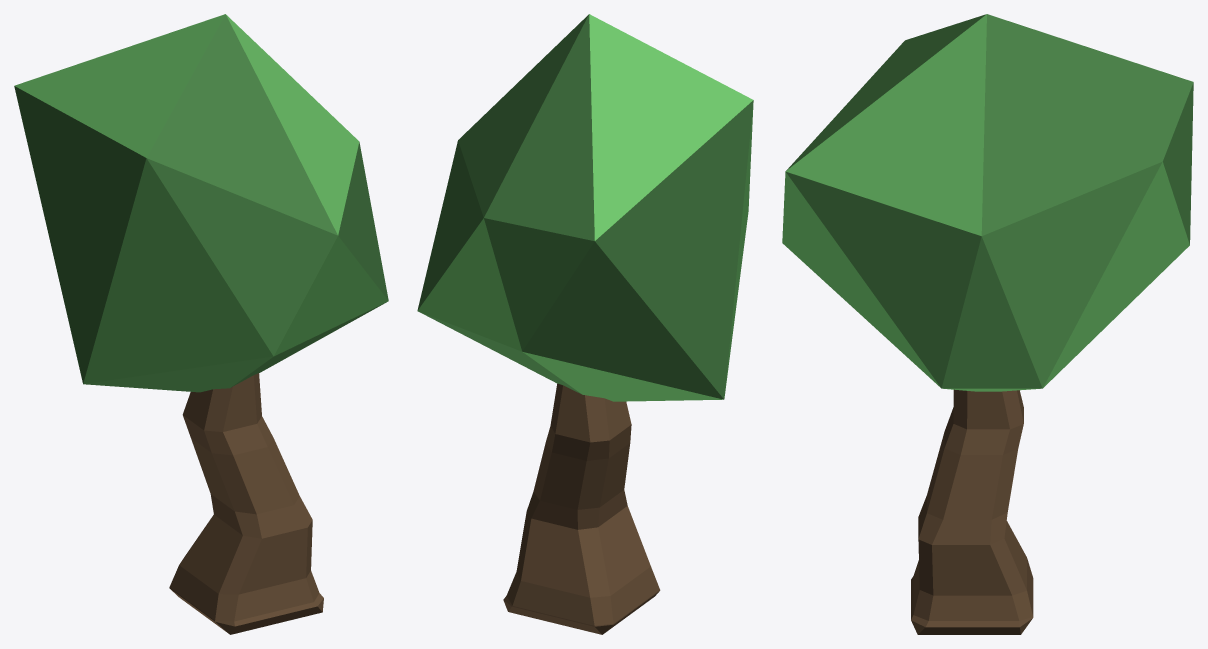
The model's file is Tree_1_Green.fbx.
The picture shows the model from 3 angles, left to right: view 1: azimuth 30°, elevation 25°; view 2: azimuth 150°, elevation 25°; view 3: azimuth 270°, elevation 25°; orthographic projection. The views are drawn at different scales.
Parts seen in each view (by area): view 1: Tree_1_Green_Part_2, Tree_1_Green_Part_3, Tree_1_Green_Part_1; view 2: Tree_1_Green_Part_2, Tree_1_Green_Part_3, Tree_1_Green_Part_1; view 3: Tree_1_Green_Part_2, Tree_1_Green_Part_3, Tree_1_Green_Part_1.
Boxes of the visible parts, bbox=[...] form: Tree_1_Green_Part_2: bbox=[14, 14, 388, 392]; Tree_1_Green_Part_3: bbox=[14, 14, 388, 384]; Tree_1_Green_Part_1: bbox=[169, 373, 323, 634]; Tree_1_Green_Part_2: bbox=[417, 14, 753, 399]; Tree_1_Green_Part_3: bbox=[417, 14, 753, 401]; Tree_1_Green_Part_1: bbox=[503, 383, 660, 634]; Tree_1_Green_Part_2: bbox=[785, 14, 1193, 388]; Tree_1_Green_Part_3: bbox=[782, 14, 1189, 391]; Tree_1_Green_Part_1: bbox=[911, 389, 1033, 634].
Size of the model in its own units: 302 by 610 by 385.
